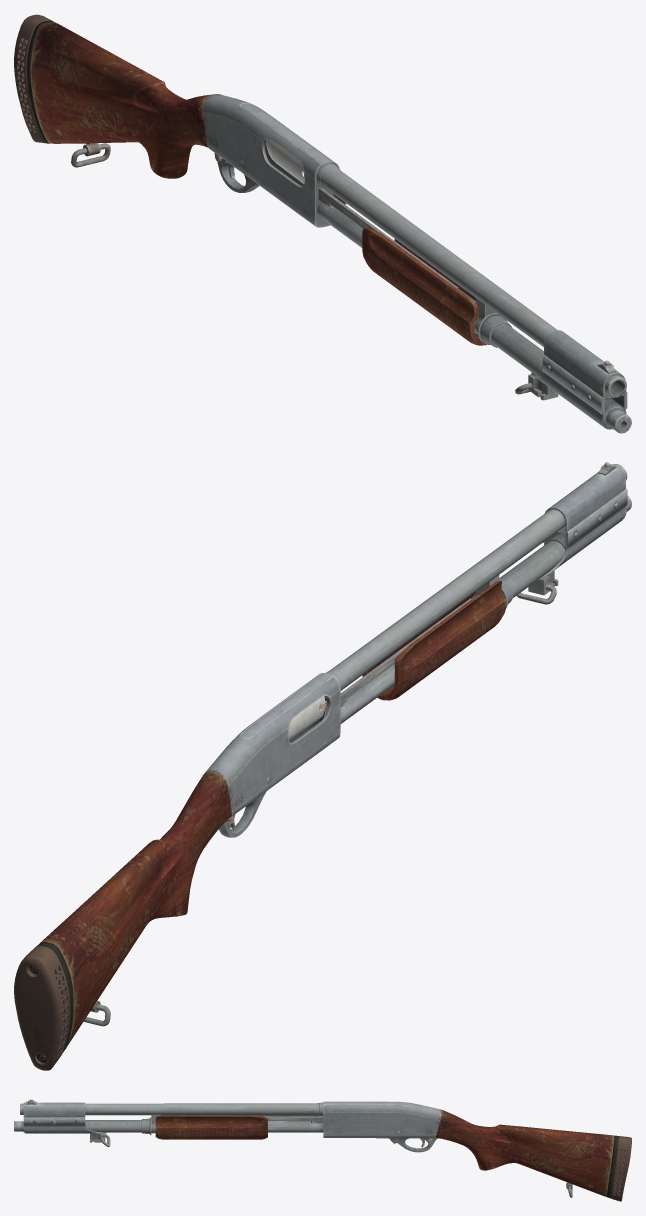
The model's file is shotgun.glb.
The picture shows the model from 3 angles, top to bottom: view 1: azimuth 30°, elevation 25°; view 2: azimuth 150°, elevation 25°; view 3: azimuth 270°, elevation 25°; orthographic projection. The views are drawn at different scales.
Visible parts, largest first — view 1: c_low_Wooden_texSet_0, shellBox_low_Metal_texSet_0, upperBarrel_low_Metal_texSet_0, m_low_Wooden_texSet_0, dd_low_Metal_texSet_0, lowerBarrel_low_Metal_texSet_0, a_low_Wooden_texSet_0, aa_low_Metal_texSet_0, rail_low_Metal_texSet_0, k_low_Wooden_texSet_0, b_low_Wooden_texSet_0, e_low_Wooden_texSet_0; view 2: c_low_Wooden_texSet_0, shellBox_low_Metal_texSet_0, upperBarrel_low_Metal_texSet_0, m_low_Wooden_texSet_0, a_low_Wooden_texSet_0, dd_low_Metal_texSet_0, lowerBarrel_low_Metal_texSet_0, aa_low_Metal_texSet_0, rail_low_Metal_texSet_0; view 3: c_low_Wooden_texSet_0, shellBox_low_Metal_texSet_0, upperBarrel_low_Metal_texSet_0, m_low_Wooden_texSet_0, dd_low_Metal_texSet_0, lowerBarrel_low_Metal_texSet_0, a_low_Wooden_texSet_0, aa_low_Metal_texSet_0, rail_low_Metal_texSet_0, b_low_Wooden_texSet_0, triggerBox_low_Metal_texSet_0, pimp_low_Metal_texSet_0.
Part boxes in pixels (box(x1,y1,x2,y2)): c_low_Wooden_texSet_0: box(30, 22, 220, 178); shellBox_low_Metal_texSet_0: box(203, 94, 339, 227); upperBarrel_low_Metal_texSet_0: box(316, 163, 626, 397); m_low_Wooden_texSet_0: box(362, 227, 486, 345); dd_low_Metal_texSet_0: box(531, 330, 626, 429); lowerBarrel_low_Metal_texSet_0: box(317, 201, 631, 433); a_low_Wooden_texSet_0: box(14, 14, 52, 143); aa_low_Metal_texSet_0: box(542, 354, 627, 414); rail_low_Metal_texSet_0: box(319, 187, 458, 289); k_low_Wooden_texSet_0: box(266, 139, 304, 183); b_low_Wooden_texSet_0: box(26, 20, 55, 143); e_low_Wooden_texSet_0: box(71, 143, 532, 394); c_low_Wooden_texSet_0: box(41, 771, 231, 1047); shellBox_low_Metal_texSet_0: box(205, 673, 340, 816); upperBarrel_low_Metal_texSet_0: box(325, 464, 627, 690); m_low_Wooden_texSet_0: box(362, 580, 506, 700); a_low_Wooden_texSet_0: box(14, 946, 69, 1070); dd_low_Metal_texSet_0: box(539, 464, 626, 579); lowerBarrel_low_Metal_texSet_0: box(340, 496, 631, 723); aa_low_Metal_texSet_0: box(543, 488, 627, 548); rail_low_Metal_texSet_0: box(340, 598, 471, 707); c_low_Wooden_texSet_0: box(435, 1110, 614, 1196); shellBox_low_Metal_texSet_0: box(323, 1101, 441, 1137); upperBarrel_low_Metal_texSet_0: box(20, 1102, 323, 1133); m_low_Wooden_texSet_0: box(155, 1115, 267, 1139); dd_low_Metal_texSet_0: box(23, 1102, 106, 1133); lowerBarrel_low_Metal_texSet_0: box(14, 1120, 323, 1132); a_low_Wooden_texSet_0: box(610, 1136, 631, 1201); aa_low_Metal_texSet_0: box(23, 1117, 85, 1126); rail_low_Metal_texSet_0: box(180, 1115, 323, 1123); b_low_Wooden_texSet_0: box(606, 1135, 618, 1197); triggerBox_low_Metal_texSet_0: box(376, 1137, 438, 1152); pimp_low_Metal_texSet_0: box(141, 1117, 151, 1135).
Size of the model in its own units: 0.0434 by 0.1814 by 0.9999.
Materials: 2 (2 with a texture image).
